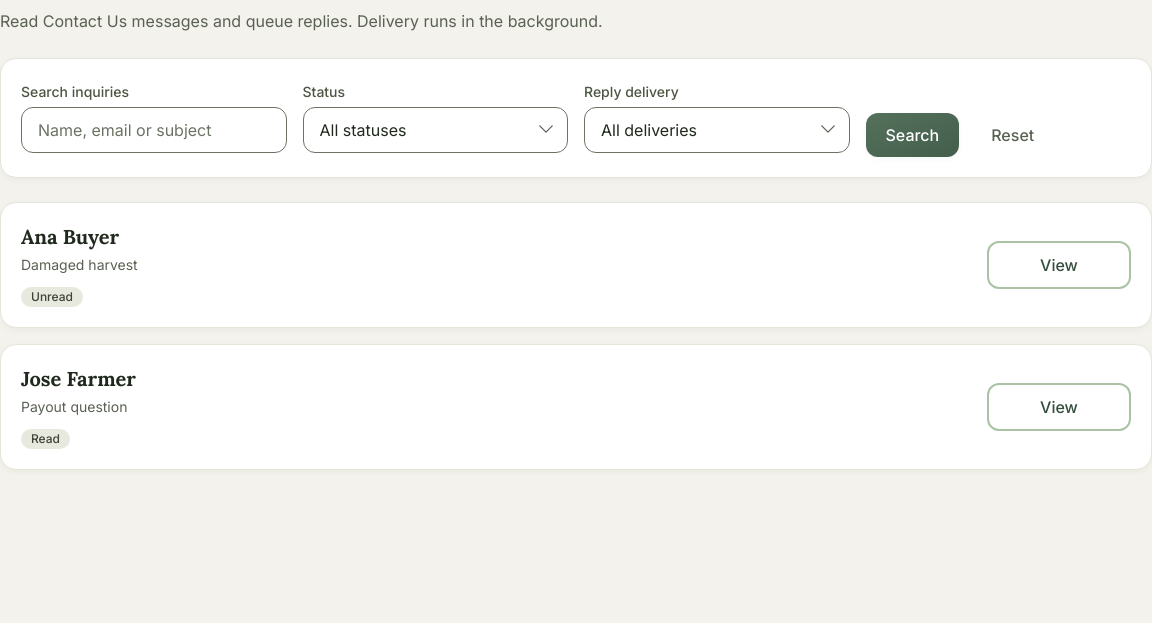
Test: AdminInquiriesPage.vue › renders the original inquiry and reply history with delivery labels
The image size is (1152, 623).
Click the button "View" in the row of "Jose Farmer".
click(1059, 407)  # box [987,383,1131,431]
(page scrolled)
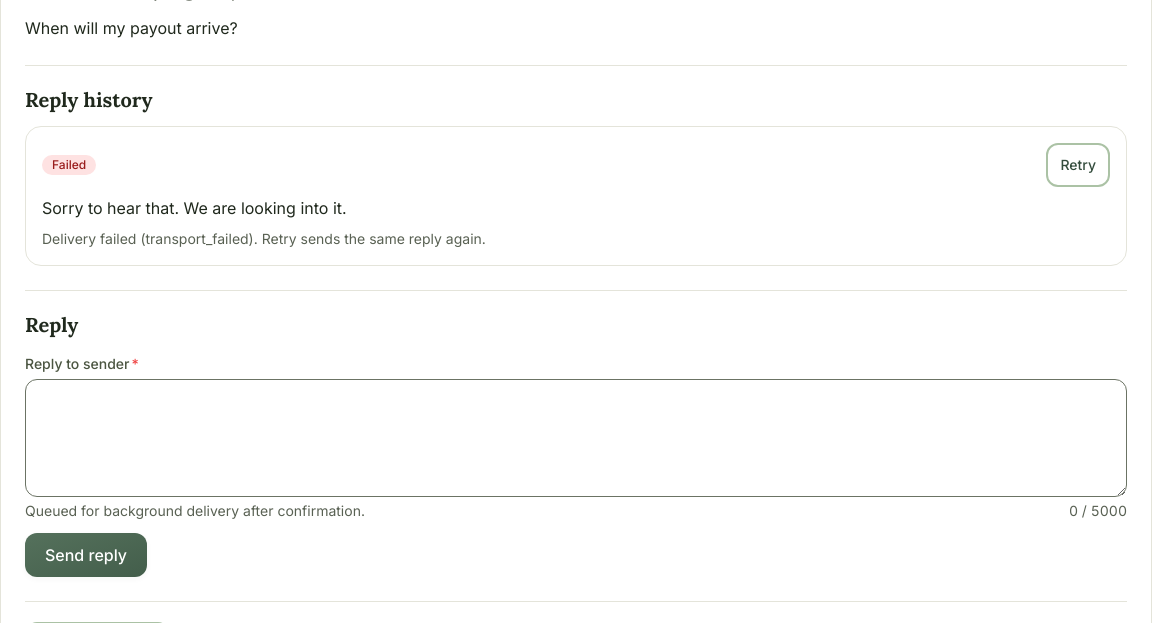
Expected: the element with test id "admin-inquiry-detail" shows "When will my payout arrive?", [25,18,238,38]
Expected: the element with test id "admin-inquiry-detail" shows "Sorry to hear that. We are looking into it.", [42,198,347,218]
Expected: the element with test id "admin-inquiry-detail" shows "Failed", [52,157,86,172]
